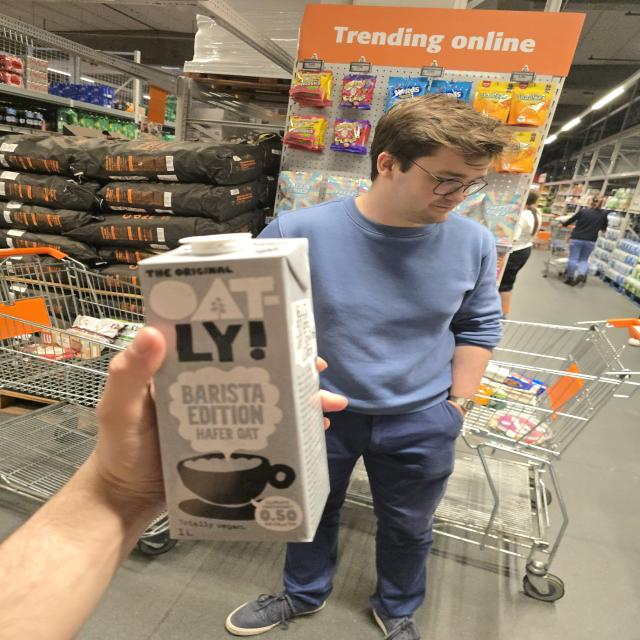Milk: (142, 237, 333, 539)
